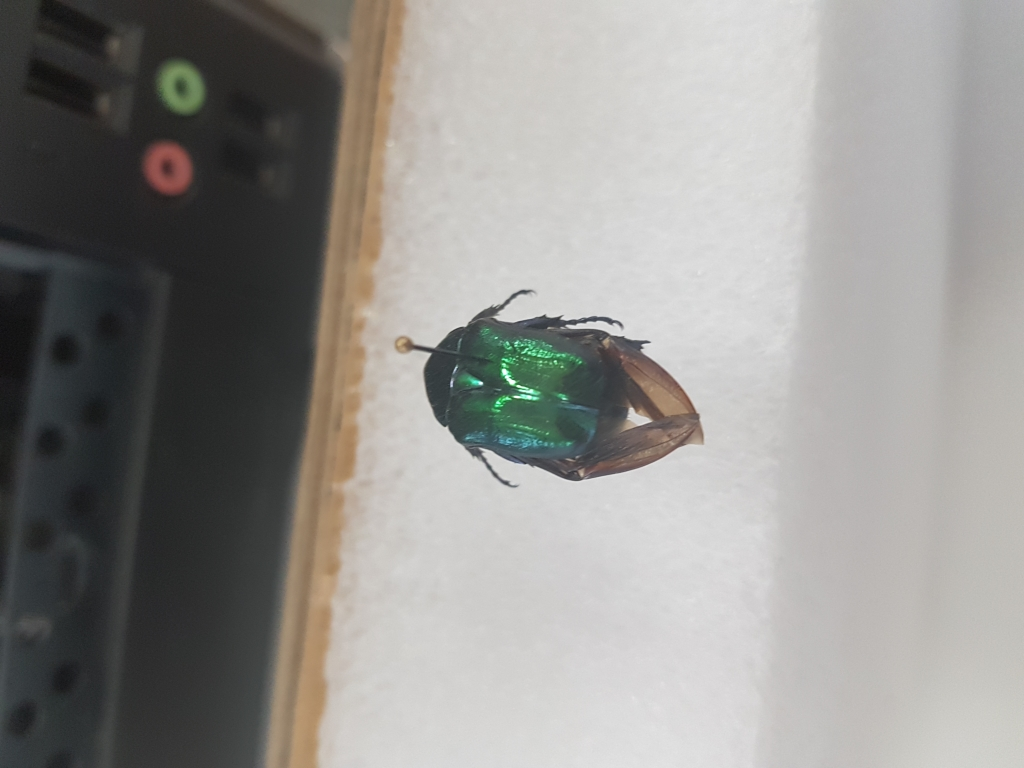Protaetia_angustata_angustata: (419, 283, 715, 486)
